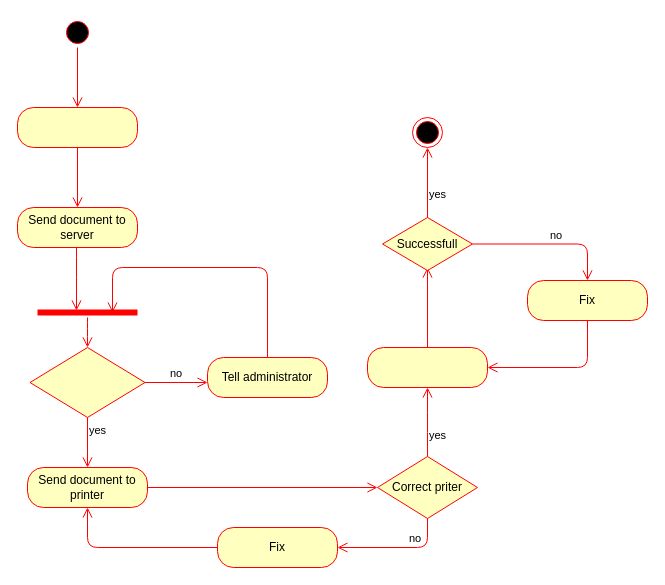
Some shapes in this 665 by 585 pixel diagram are drawn without their labels. The shapes that lost their labels are listed below. From the top down, each one's centre as x and y in pixels, then its label:
At point (77, 127): "Start PC".
At point (87, 382): "Printer connected".
At point (427, 367): "Print".
